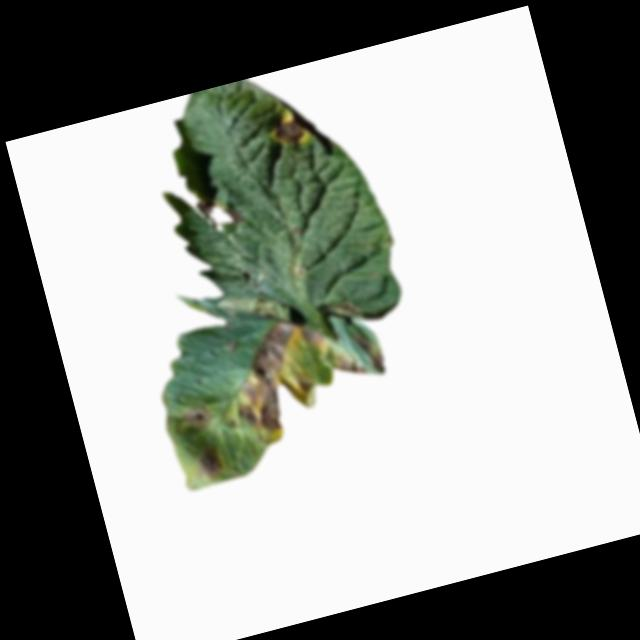Early_blight: (215, 297, 396, 449), (195, 192, 244, 236), (268, 116, 308, 153), (192, 441, 228, 482), (180, 403, 214, 436)
